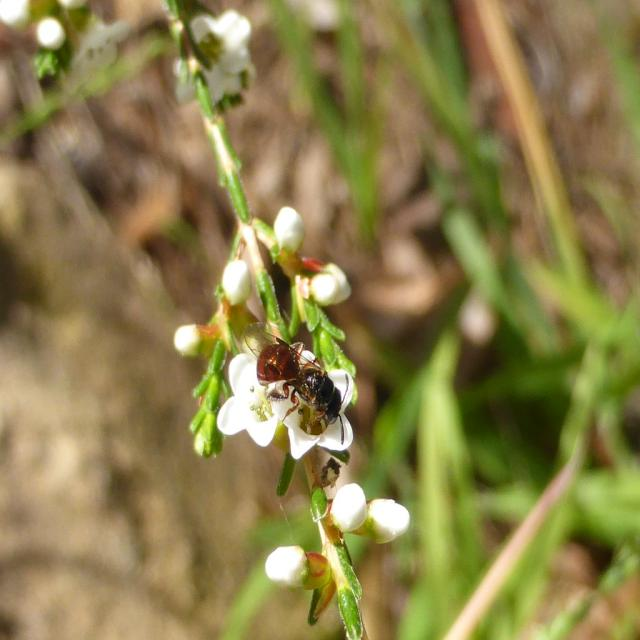Allodapula: (234, 313, 368, 462)
